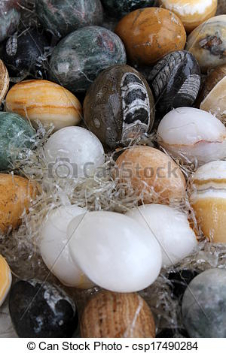egg: (63, 204, 166, 296), (35, 200, 98, 293), (122, 199, 201, 265)
stone: (43, 16, 134, 95), (80, 61, 158, 151), (3, 69, 88, 133), (155, 101, 226, 175), (157, 103, 226, 169), (110, 2, 188, 60), (176, 264, 226, 338)
